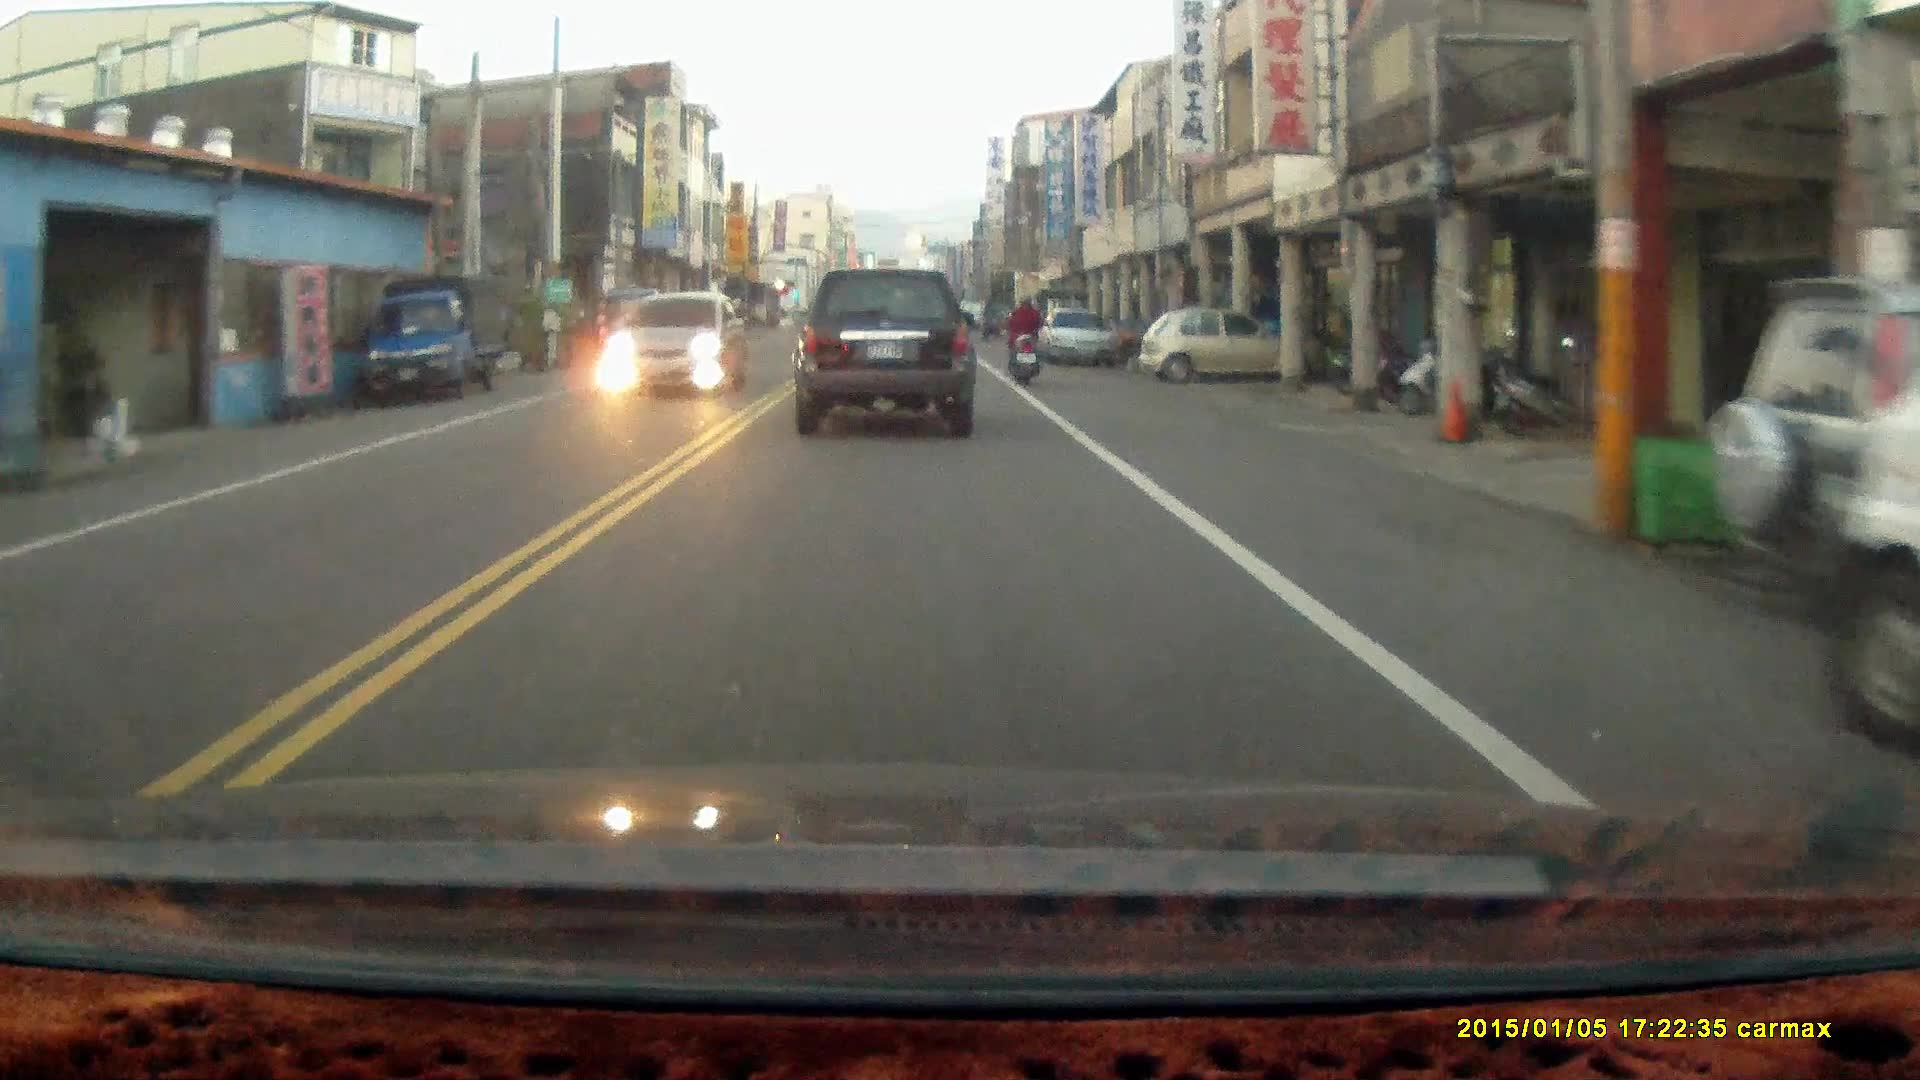pedestrian: (591, 295, 613, 361)
rider: (1004, 291, 1041, 386)
vehicle: (1702, 271, 1919, 632), (789, 262, 978, 433), (366, 269, 517, 404), (607, 290, 753, 400), (1141, 303, 1304, 382), (1041, 305, 1122, 366)
